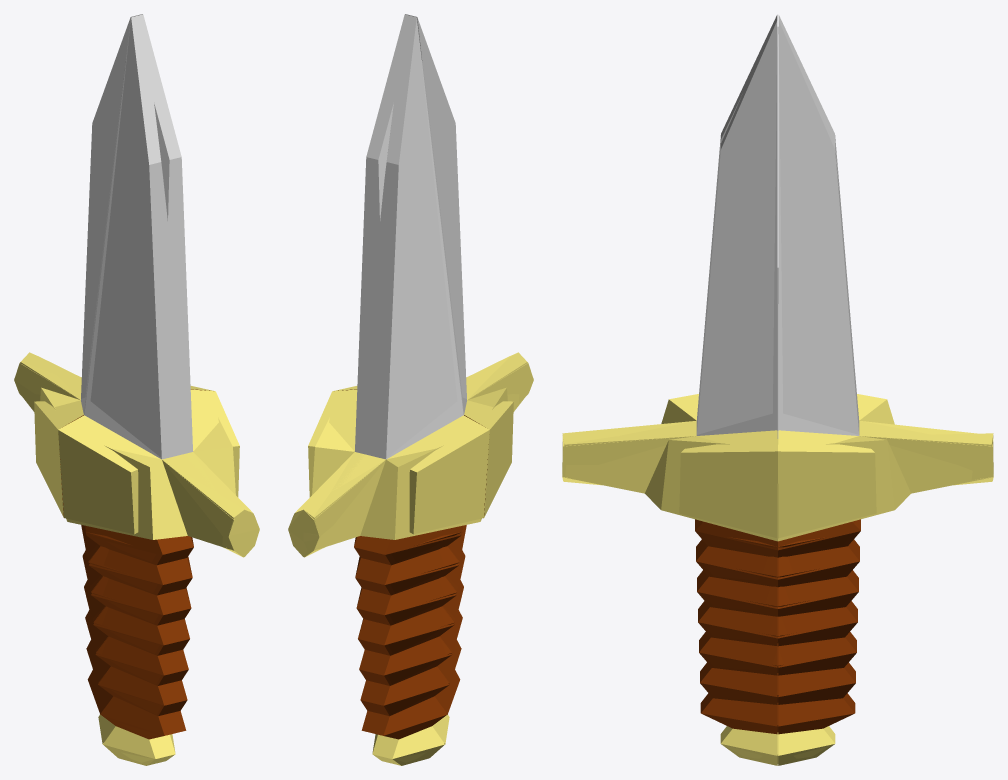
Rendered from knife.glb.
3 renders of one model, left to right at view 1: azimuth 30°, elevation 25°; view 2: azimuth 150°, elevation 25°; view 3: azimuth 270°, elevation 25°, orthographic.
Parts seen in each view (by area): view 1: Cube; view 2: Cube; view 3: Cube.
Part boxes in pixels (box(x1,y1,x2,y2)): Cube: box(14, 14, 259, 765); Cube: box(288, 14, 533, 765); Cube: box(562, 15, 993, 765).
Size of the model in its own units: 0.1675 by 0.7492 by 0.3958.
